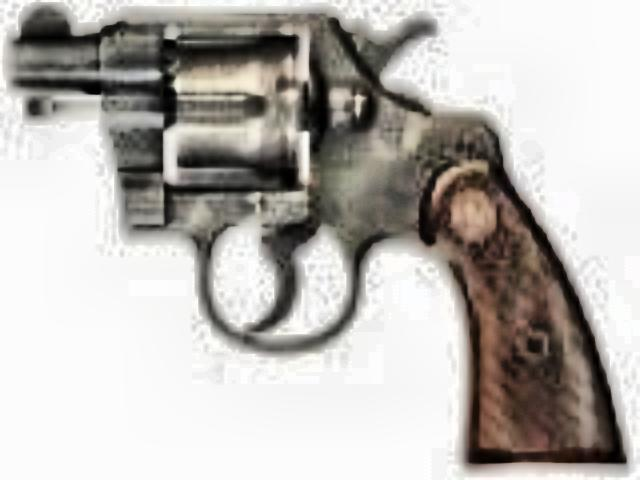pistol: (20, 0, 628, 464)
